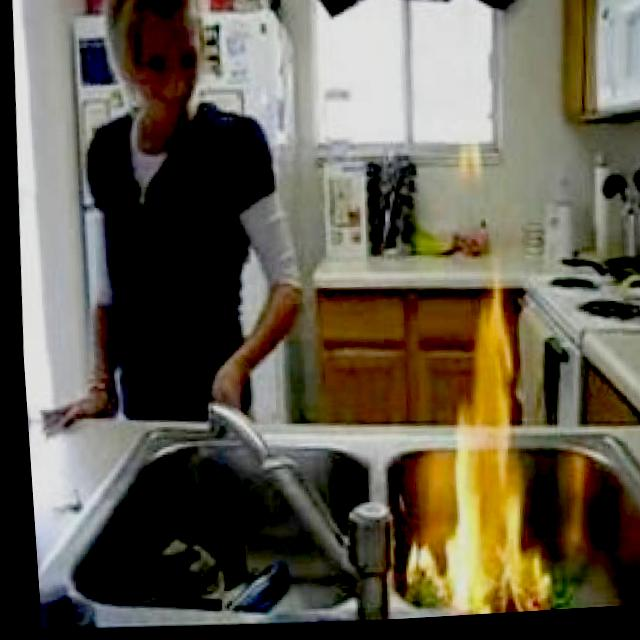helmet: (382, 277, 556, 623)
